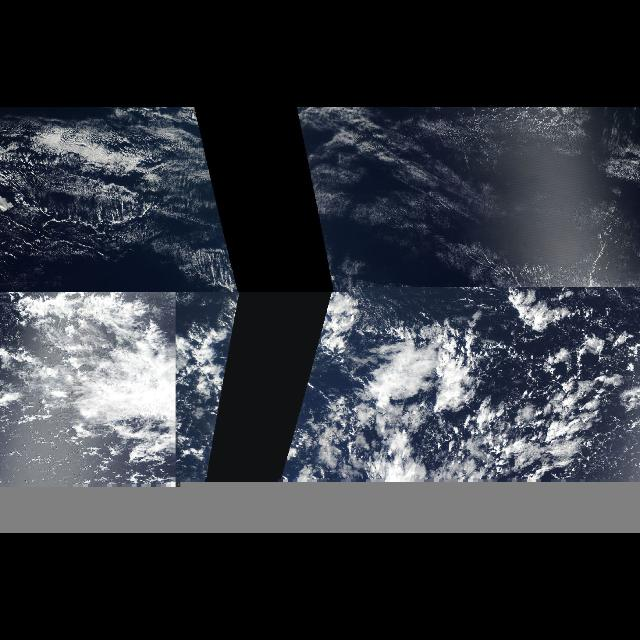Sugar: (326, 121, 614, 276)
